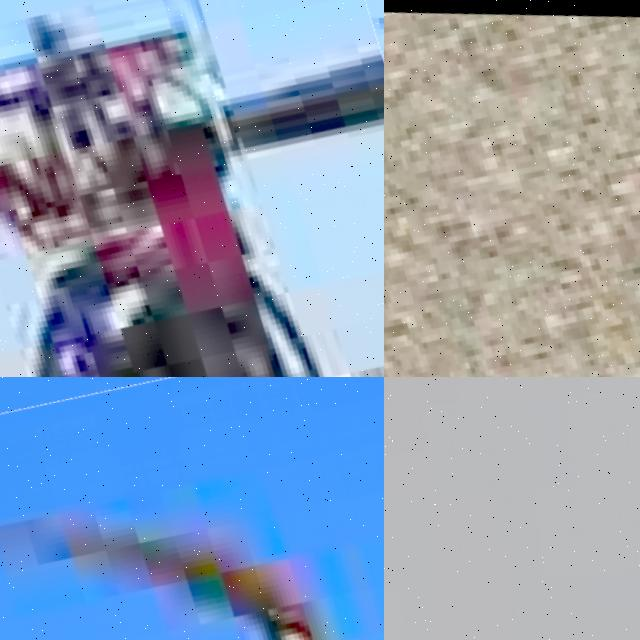drone: (0, 0, 384, 377), (0, 377, 384, 640), (384, 0, 640, 377)
